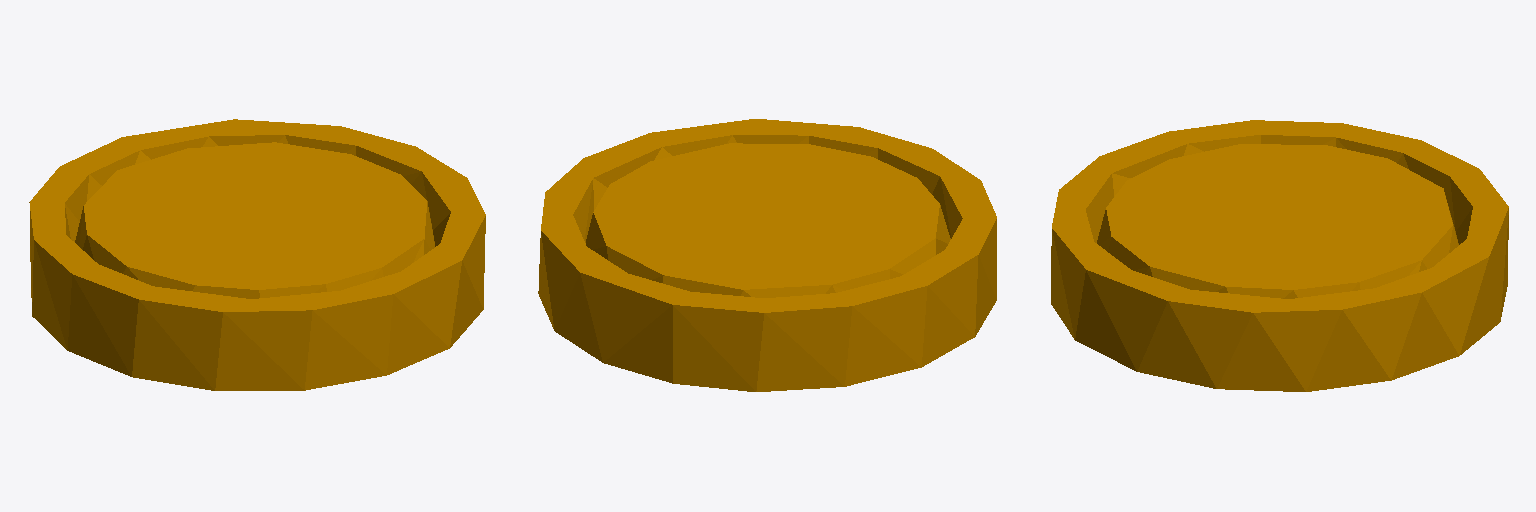
File: Puck150.obj
The picture shows the model from 3 angles: view 1: azimuth 30°, elevation 25°; view 2: azimuth 150°, elevation 25°; view 3: azimuth 270°, elevation 25°; orthographic projection.
Visible parts, largest first — view 1: Cylinder_Cylinder.001; view 2: Cylinder_Cylinder.001; view 3: Cylinder_Cylinder.001.
Boxes of the visible parts, box(x1,y1,x2,y2) form: Cylinder_Cylinder.001: box(29, 119, 485, 390); Cylinder_Cylinder.001: box(538, 119, 996, 391); Cylinder_Cylinder.001: box(1051, 120, 1508, 391).
Size of the model in its own units: 2 by 0.3847 by 2.01.